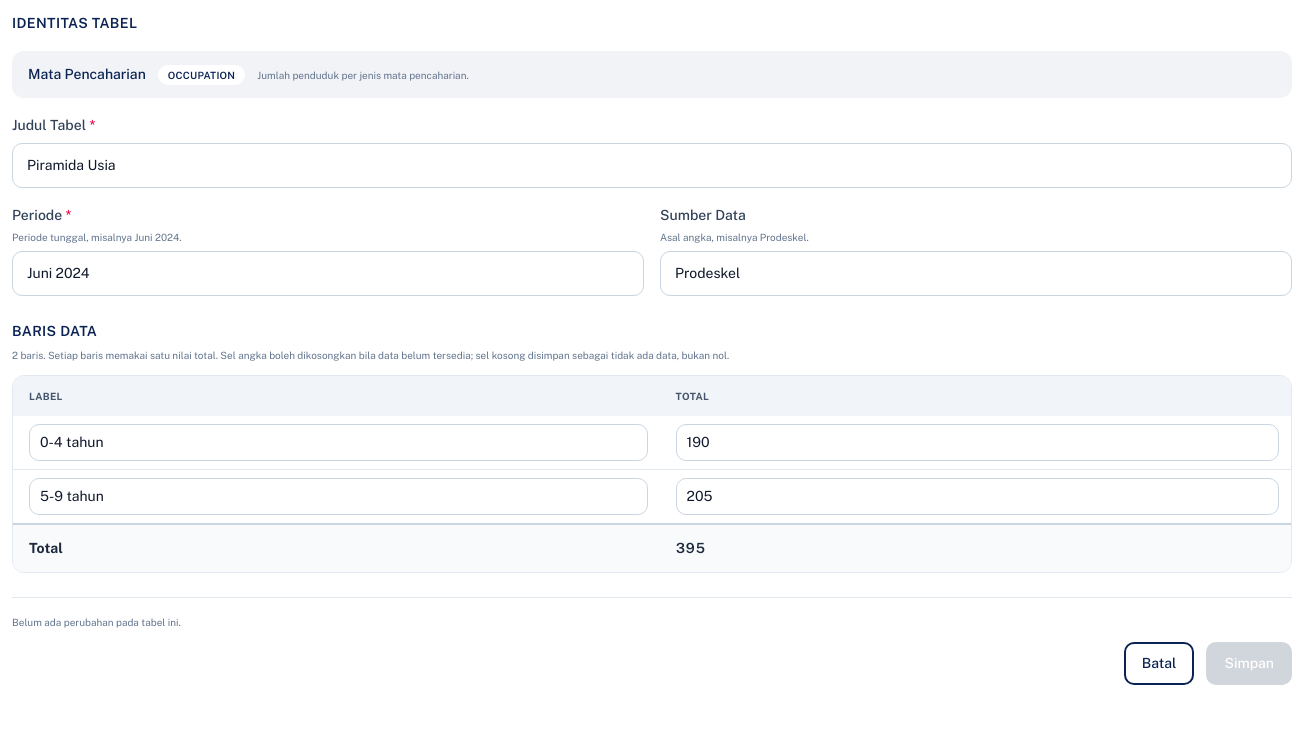
Scenario: TableIndicatorForm.vue › keeps the save button disabled until something changes
Expected: the submit button is disabled, [1206,642,1292,685]
Replace the text in the field with id "table-row-row-2-total" with "210" at x=977, y=496, box [676,478,1279,515]
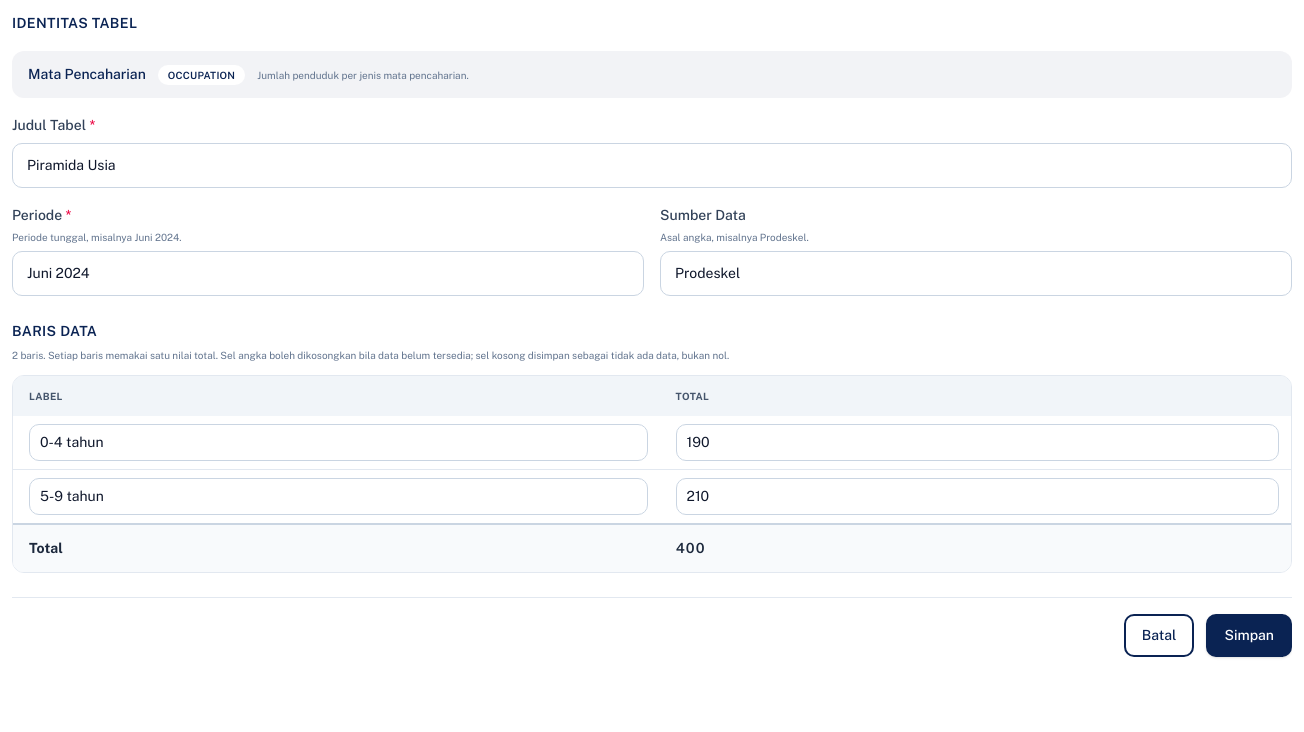
Result: the submit button is enabled at [1206,614,1292,657]
